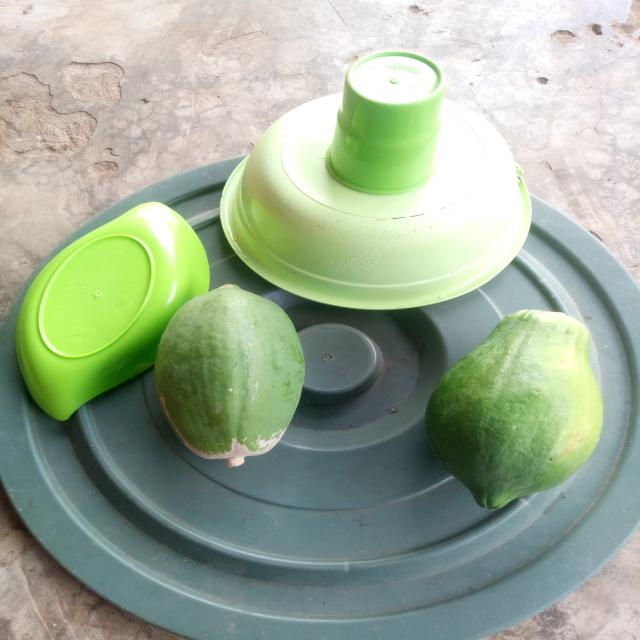Pepaya unrippen: (154, 282, 297, 463)
